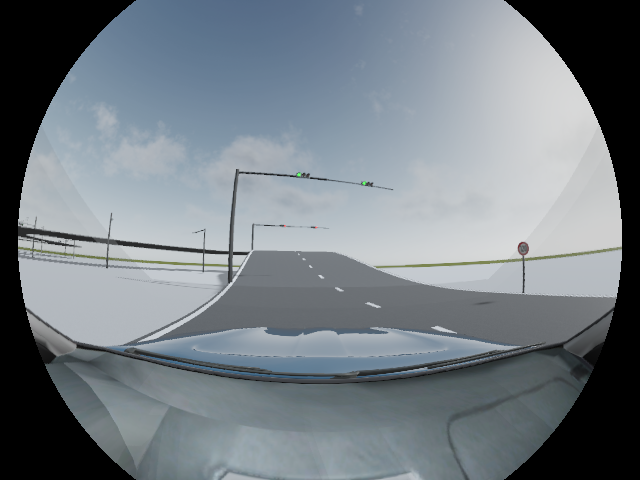Green Light: (296, 171, 312, 178), (362, 179, 374, 188)
